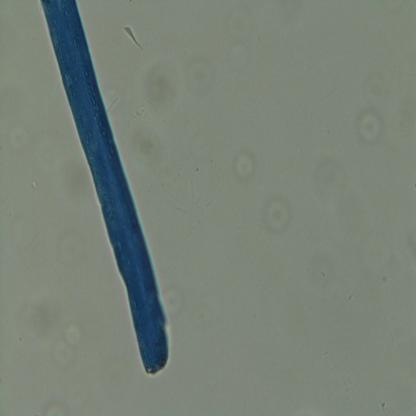Background material: (139, 55, 183, 116), (363, 235, 401, 283), (50, 311, 82, 365), (130, 126, 167, 169), (354, 101, 387, 147), (179, 52, 217, 90), (260, 190, 292, 234), (22, 303, 60, 338), (303, 253, 340, 288), (226, 8, 260, 46), (57, 228, 89, 266), (231, 145, 258, 188), (158, 283, 190, 318), (317, 173, 346, 202), (8, 116, 29, 145), (119, 20, 141, 41), (46, 398, 71, 416), (30, 178, 38, 188), (196, 167, 199, 171), (210, 158, 213, 162)
Cotton: (42, 0, 167, 378)
